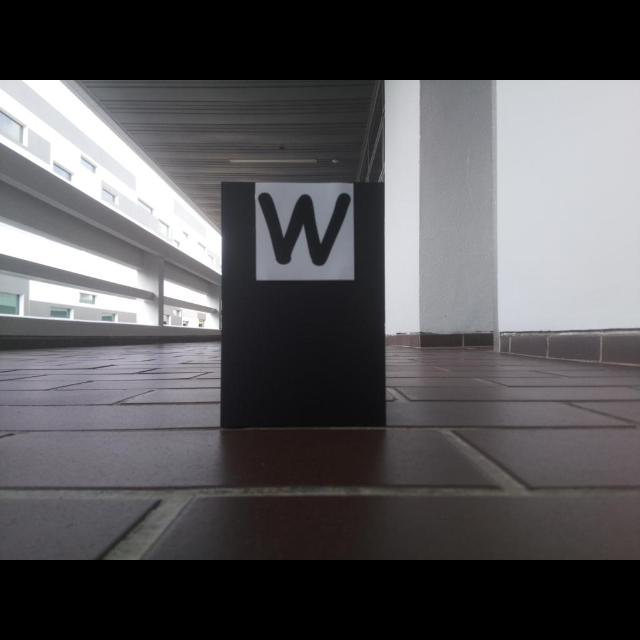W: (257, 190, 353, 269)
